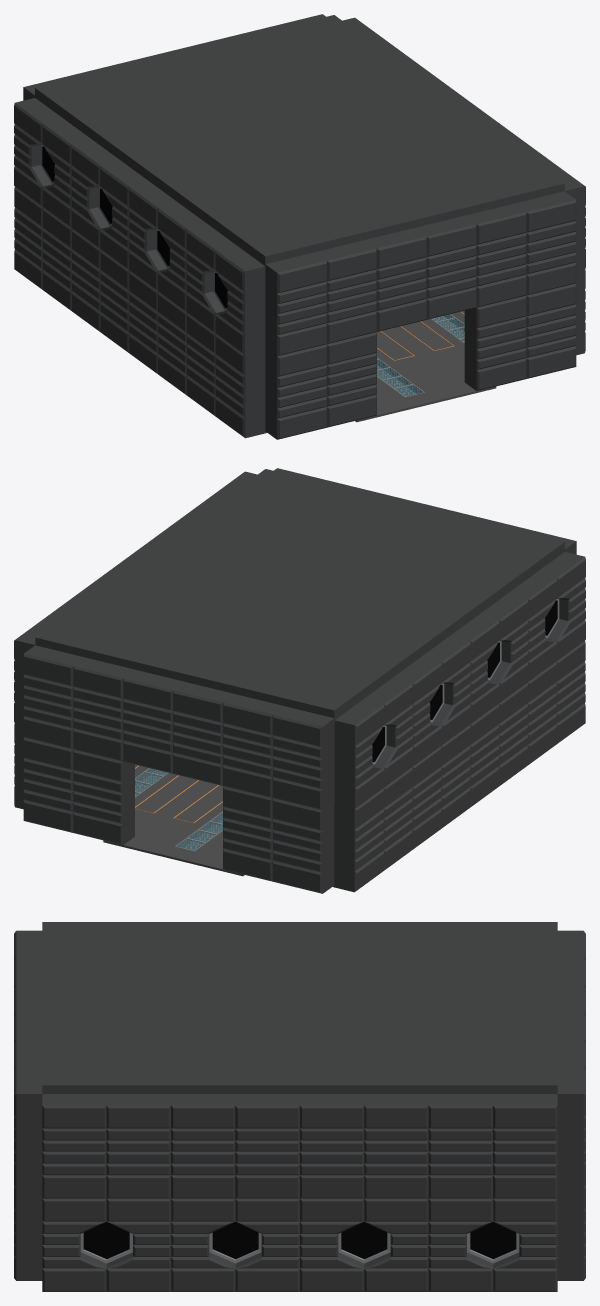
File: room3.fbx
3 views of the same model, one above another, from view 1: azimuth 30°, elevation 25°; view 2: azimuth 150°, elevation 25°; view 3: azimuth 270°, elevation 25° (orthographic). The views are drawn at different scales.
Visible parts, largest first — view 1: r3_celing, r3_wall3, r3_wall1, r3_floor, r3_wall4, r3_wall2; view 2: r3_celing, r3_wall2, r3_wall1, r3_floor, r3_wall4, r3_wall3; view 3: r3_wall4, r3_celing, r3_wall2, r3_wall3.
Part boxes in pixels (left/top/right/bottom): r3_celing: left=35, top=15, right=564, bottom=265; r3_wall3: left=265, top=191, right=576, bottom=439; r3_wall1: left=14, top=98, right=265, bottom=438; r3_floor: left=265, top=310, right=496, bottom=433; r3_wall4: left=342, top=17, right=585, bottom=355; r3_wall2: left=23, top=14, right=325, bottom=100; r3_celing: left=35, top=469, right=564, bottom=720; r3_wall2: left=23, top=645, right=334, bottom=893; r3_wall1: left=334, top=552, right=585, bottom=892; r3_floor: left=103, top=764, right=333, bottom=887; r3_wall4: left=14, top=471, right=257, bottom=809; r3_wall3: left=274, top=468, right=576, bottom=554; r3_wall4: left=42, top=1094, right=557, bottom=1291; r3_celing: left=42, top=922, right=557, bottom=1093; r3_wall2: left=557, top=930, right=585, bottom=1280; r3_wall3: left=14, top=930, right=42, bottom=1280.
Bounding box in the file's own units: 3444 × 1747 × 4440.
